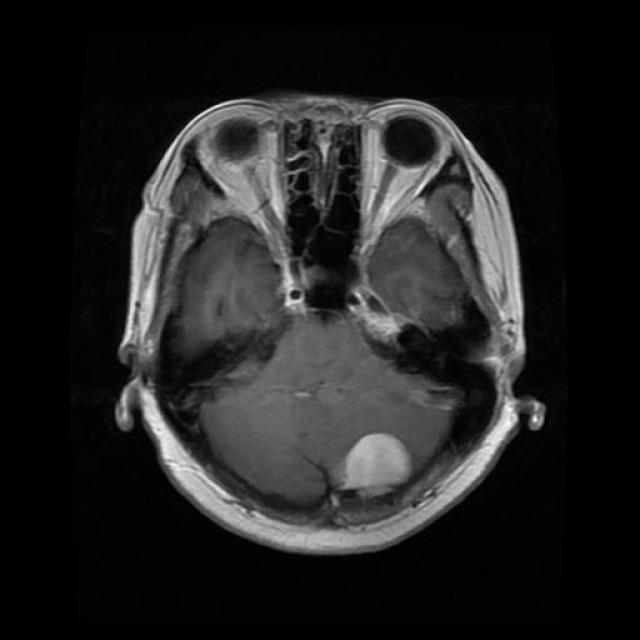Meningioma: (338, 434, 411, 496)
